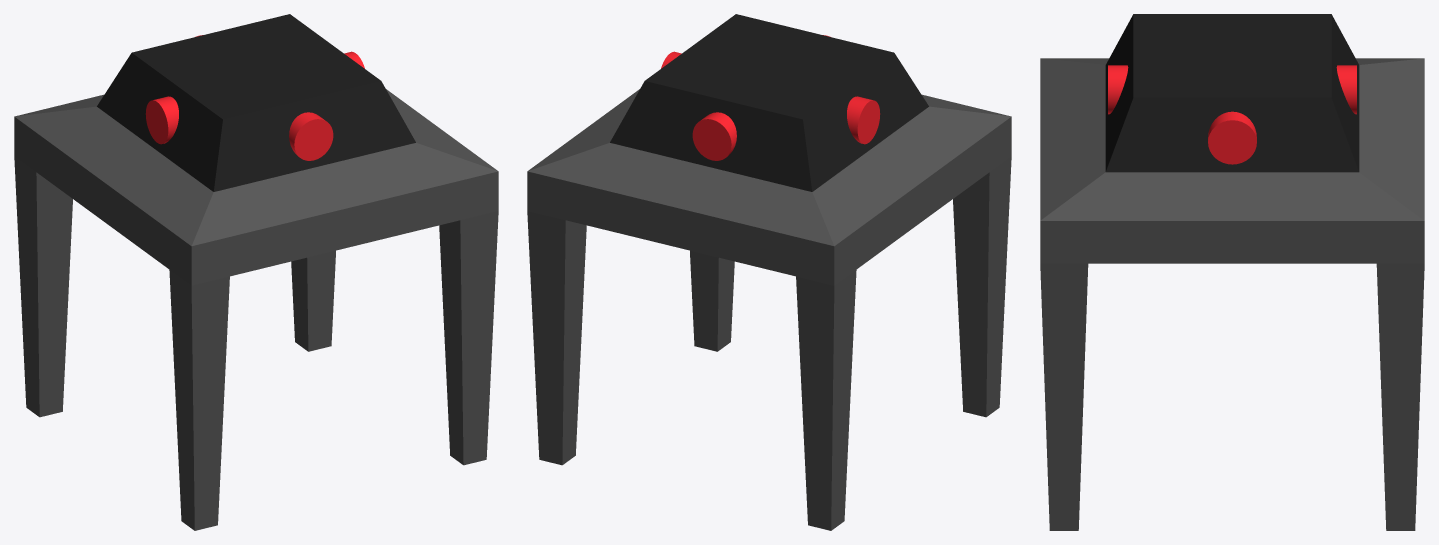
The model's file is Robot_1.fbx.
The picture shows the model from 3 angles, left to right: view 1: azimuth 30°, elevation 25°; view 2: azimuth 150°, elevation 25°; view 3: azimuth 270°, elevation 25°; orthographic projection. The views are drawn at different scales.
Parts seen in each view (by area): view 1: Robot_1; view 2: Robot_1; view 3: Robot_1.
Part boxes in pixels (bbox=[...]): Robot_1: bbox=[14, 14, 498, 530]; Robot_1: bbox=[527, 14, 1011, 530]; Robot_1: bbox=[1040, 14, 1424, 530].
Size of the model in its own units: 34.85 by 39.79 by 34.85.
